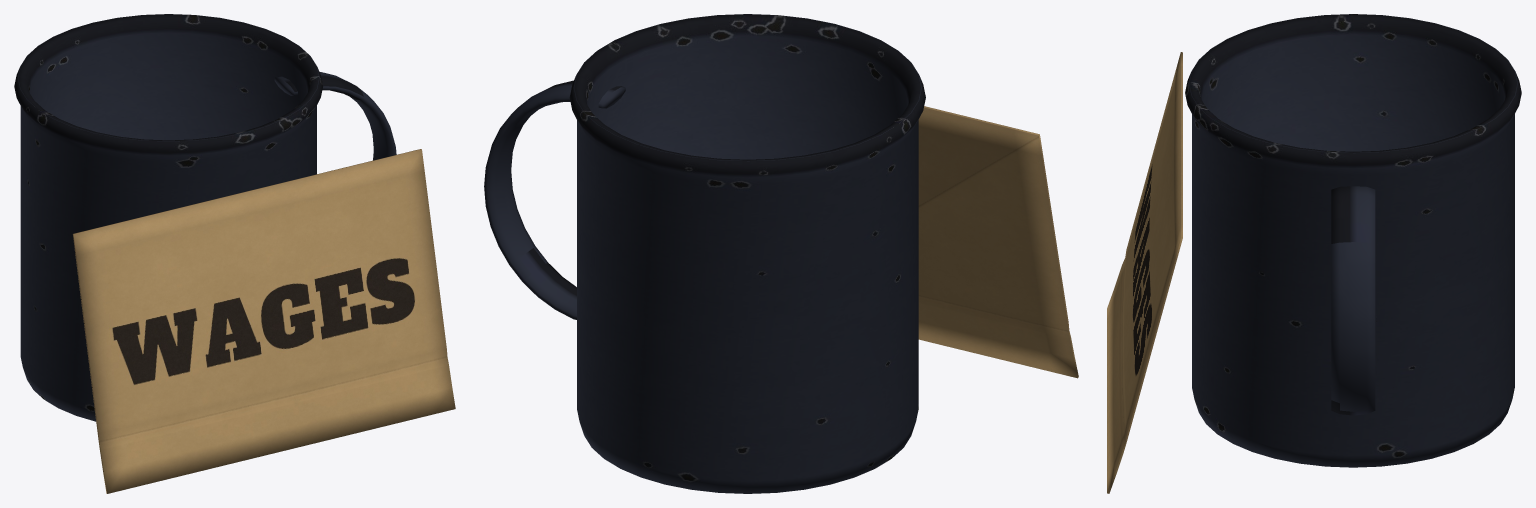
Rendered from tin-mug-and-wages-envelope.glb.
3 views of the same model, side by side, from view 1: azimuth 30°, elevation 25°; view 2: azimuth 150°, elevation 25°; view 3: azimuth 270°, elevation 25° (orthographic). The views are drawn at different scales.
Visible parts, largest first — view 1: wages-envelope-paper-standing, tin-mug-and-wages-envelope-mug; view 2: tin-mug-and-wages-envelope-mug, wages-envelope-paper-standing; view 3: tin-mug-and-wages-envelope-mug, wages-envelope-paper-standing.
Part boxes in pixels (x1=…): wages-envelope-paper-standing: x1=72, y1=149, x2=455, y2=493; tin-mug-and-wages-envelope-mug: x1=14, y1=14, x2=396, y2=421; tin-mug-and-wages-envelope-mug: x1=484, y1=14, x2=925, y2=493; wages-envelope-paper-standing: x1=918, y1=106, x2=1078, y2=378; tin-mug-and-wages-envelope-mug: x1=1185, y1=14, x2=1521, y2=467; wages-envelope-paper-standing: x1=1107, y1=52, x2=1182, y2=493.
Size of the model in its own units: 0.1298 by 0.0912 by 0.1078.
Materials: 4 (3 with a texture image).
